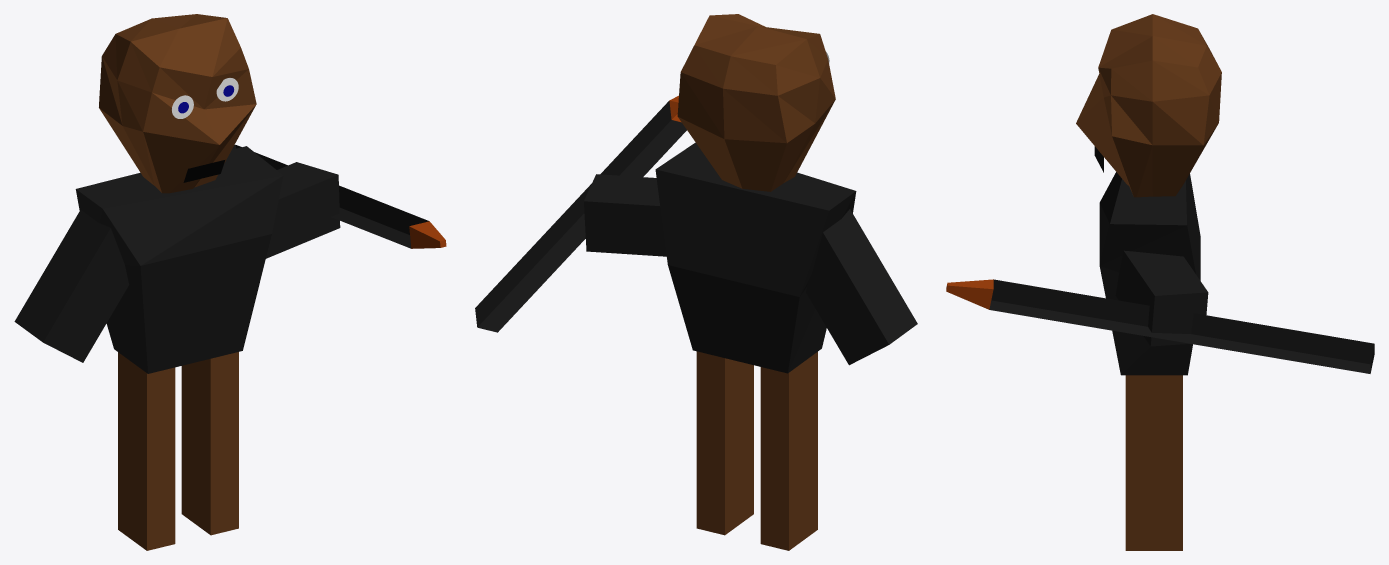
File: spearman2f.obj
3 renders of one model, left to right at view 1: azimuth 30°, elevation 25°; view 2: azimuth 150°, elevation 25°; view 3: azimuth 270°, elevation 25°, orthographic.
Parts seen in each view (by area): view 1: Cube.001, Cube, Cube.004, Cube.005, Cube.003, Cube.002, Cube.007, Plane; view 2: Cube.001, Cube, Cube.004, Cube.005, Cube.003, Cube.007, Cube.002; view 3: Cube, Cube.007, Cube.005, Cube.001, Cube.002.
Boxes of the visible parts, x1,y1,x2,y2 form: Cube.001: [75, 146, 283, 373]; Cube: [99, 14, 256, 193]; Cube.004: [118, 352, 175, 550]; Cube.005: [181, 352, 238, 535]; Cube.003: [14, 209, 129, 362]; Cube.002: [266, 162, 340, 258]; Cube.007: [232, 144, 446, 248]; Plane: [183, 160, 225, 182]; Cube.001: [655, 142, 856, 373]; Cube: [677, 14, 835, 191]; Cube.004: [760, 352, 817, 550]; Cube.005: [696, 351, 753, 535]; Cube.003: [806, 209, 917, 365]; Cube.007: [475, 95, 686, 332]; Cube.002: [584, 174, 666, 256]; Cube: [1076, 14, 1221, 197]; Cube.007: [946, 279, 1374, 373]; Cube.005: [1125, 375, 1182, 550]; Cube.001: [1099, 172, 1200, 375]; Cube.002: [1115, 250, 1208, 346].
Size of the model in its own units: 3.88 by 5.86 by 4.62.
